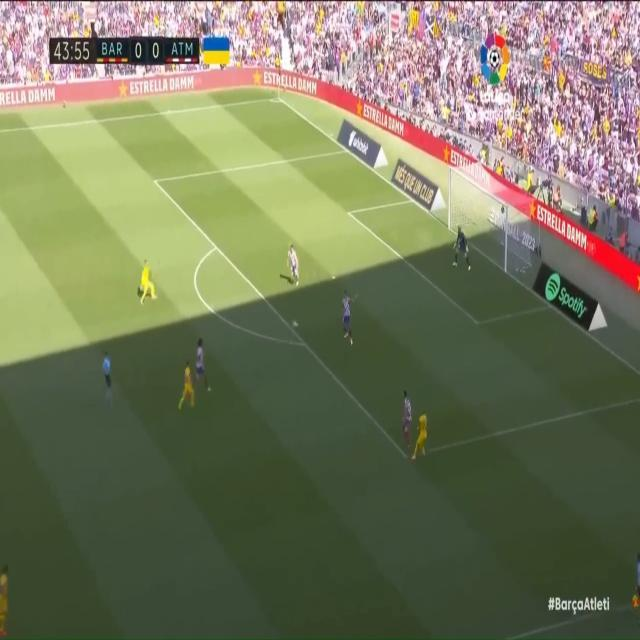ball: (290, 318, 299, 336)
goalkeeper: (453, 228, 472, 274)
player: (338, 289, 362, 346), (1, 553, 16, 640), (178, 359, 198, 416), (283, 239, 304, 293), (396, 384, 414, 446), (413, 401, 431, 462), (139, 259, 159, 309), (196, 333, 208, 395)
referee: (95, 349, 123, 406), (630, 551, 640, 611)
